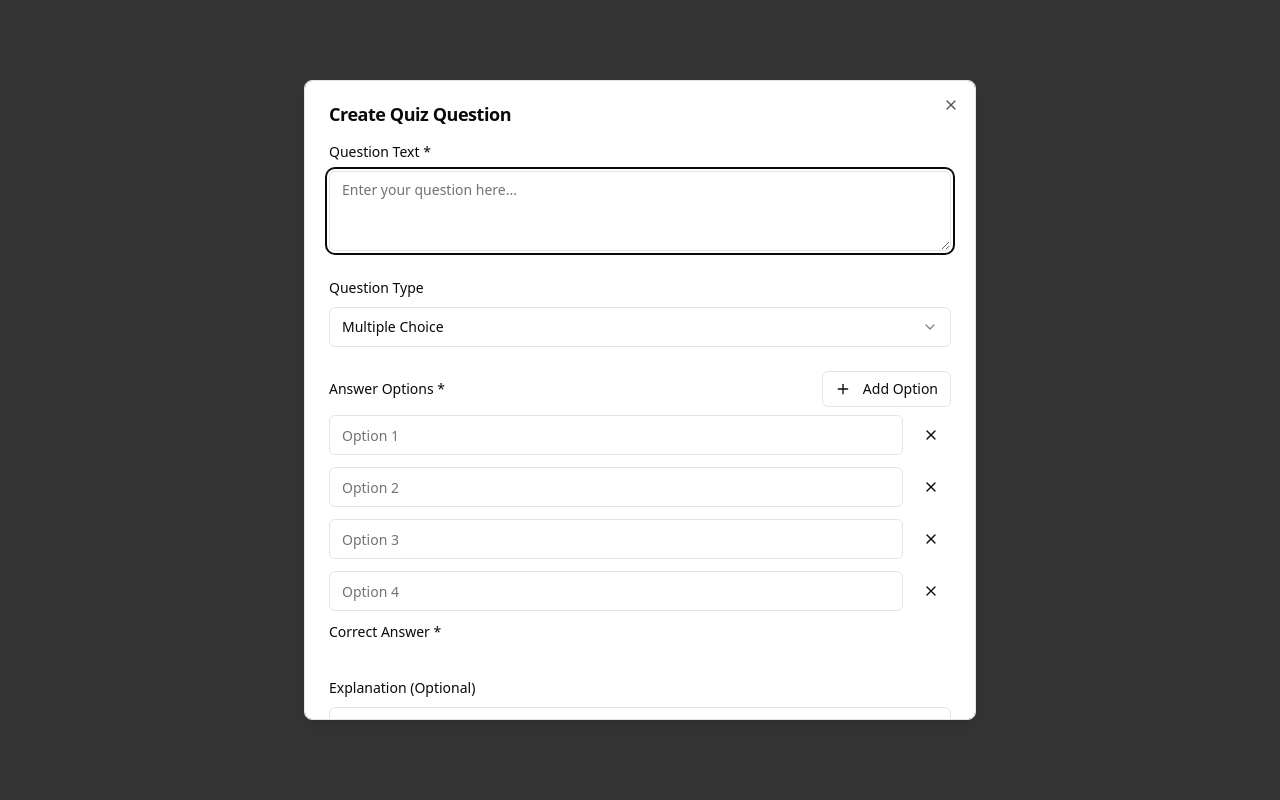
Test case: QuizEditor › Question options management › allows adding new option for multiple choice
The width and height of the screenshot is (1280, 800).
What coordinates should you click on to do the following:
click the button "Add Option"
I would click on:
 (886, 389)
Its box is x1=822 y1=371 x2=951 y2=407.
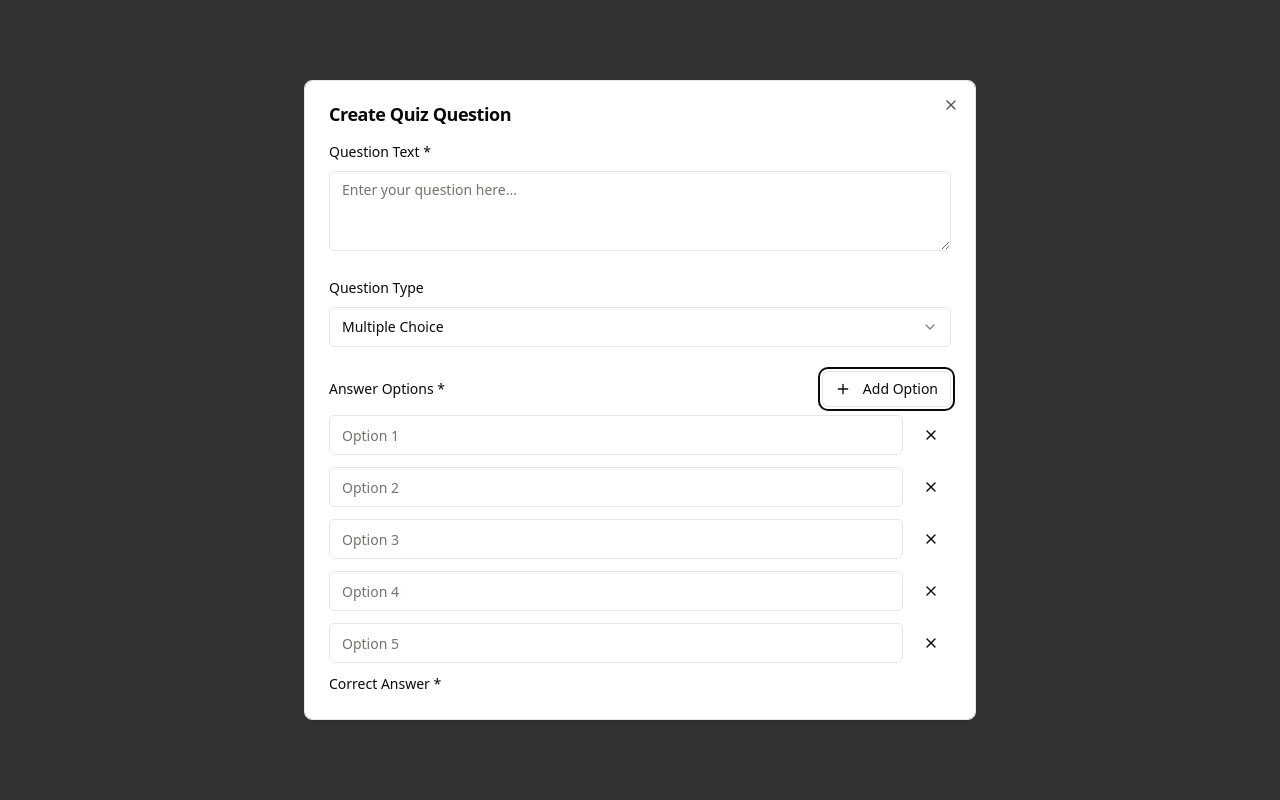
Now the number of fields with placeholder "Option 1" is 5, box x1=329 y1=415 x2=903 y2=455; x1=329 y1=467 x2=903 y2=507; x1=329 y1=519 x2=903 y2=559; x1=329 y1=571 x2=903 y2=611; x1=329 y1=623 x2=903 y2=663
